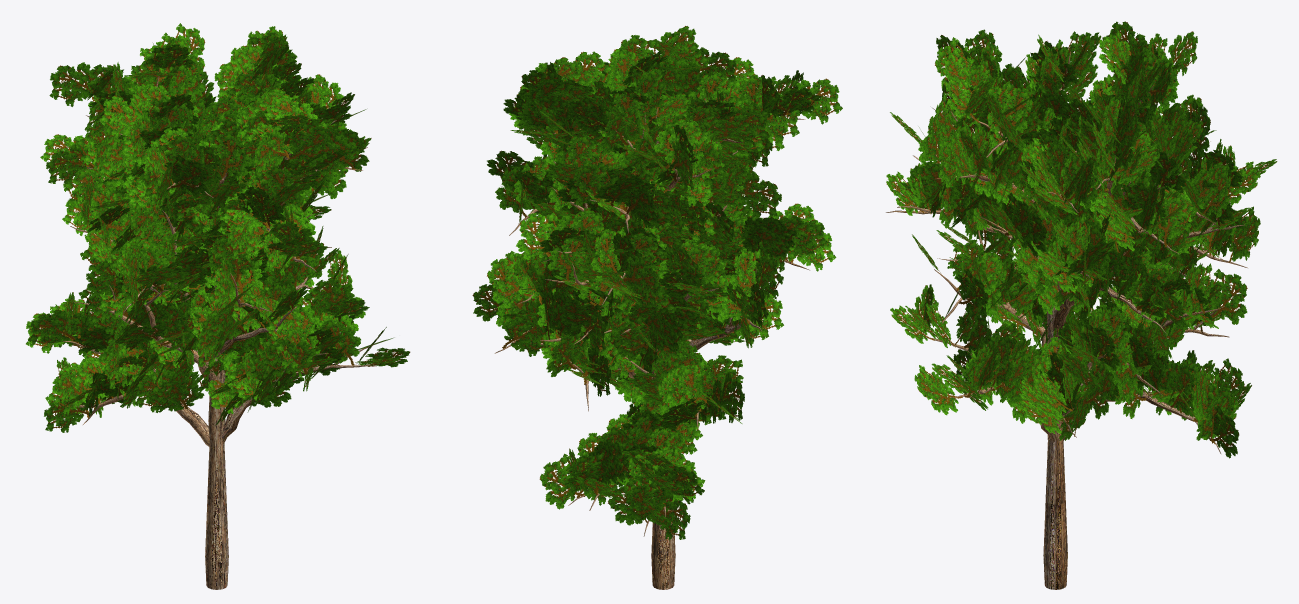
The model's file is arvoreGerador2.glb.
3 views of the same model, side by side, from view 1: azimuth 30°, elevation 25°; view 2: azimuth 150°, elevation 25°; view 3: azimuth 270°, elevation 25° (orthographic). The views are drawn at different scales.
Visible parts, largest first — view 1: arvore; view 2: arvore; view 3: arvore.
Boxes of the visible parts, bbox=[...] form: arvore: bbox=[26, 23, 410, 589]; arvore: bbox=[472, 26, 842, 589]; arvore: bbox=[886, 21, 1277, 589].
Size of the model in its own units: 8 by 12.98 by 8.64.
2 materials, 2 textured.
